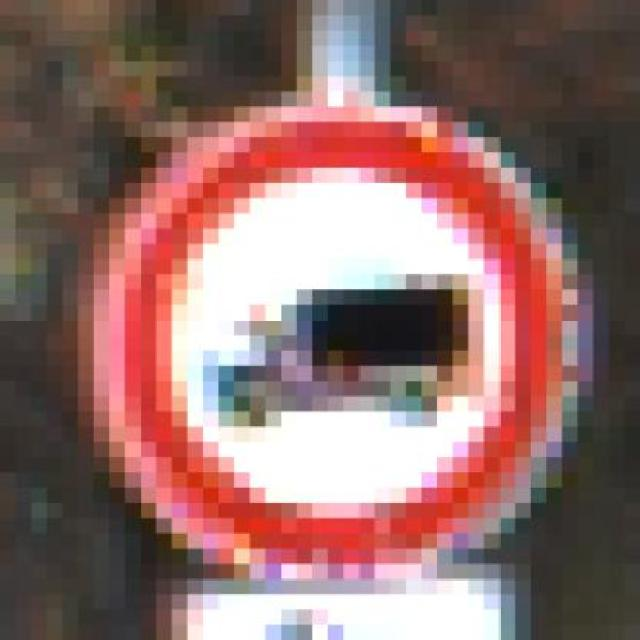Truck traffic is prohibited: (62, 91, 608, 594)
